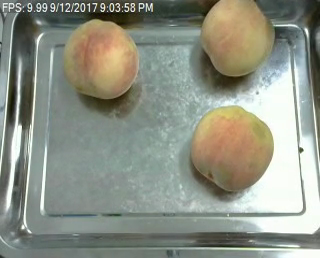Peach: (191, 103, 272, 192), (64, 18, 139, 99), (197, 0, 273, 78)
